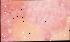plaque psoriasis: (15, 0, 70, 42), (0, 0, 20, 36), (0, 0, 28, 2)
